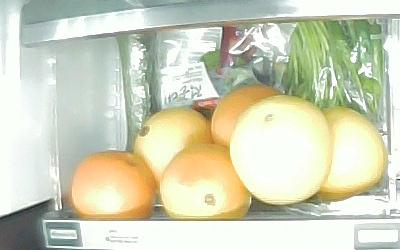grapefruit: (231, 94, 333, 205), (159, 143, 251, 221), (70, 150, 156, 221), (315, 106, 384, 194), (134, 108, 213, 179), (210, 84, 287, 148)
